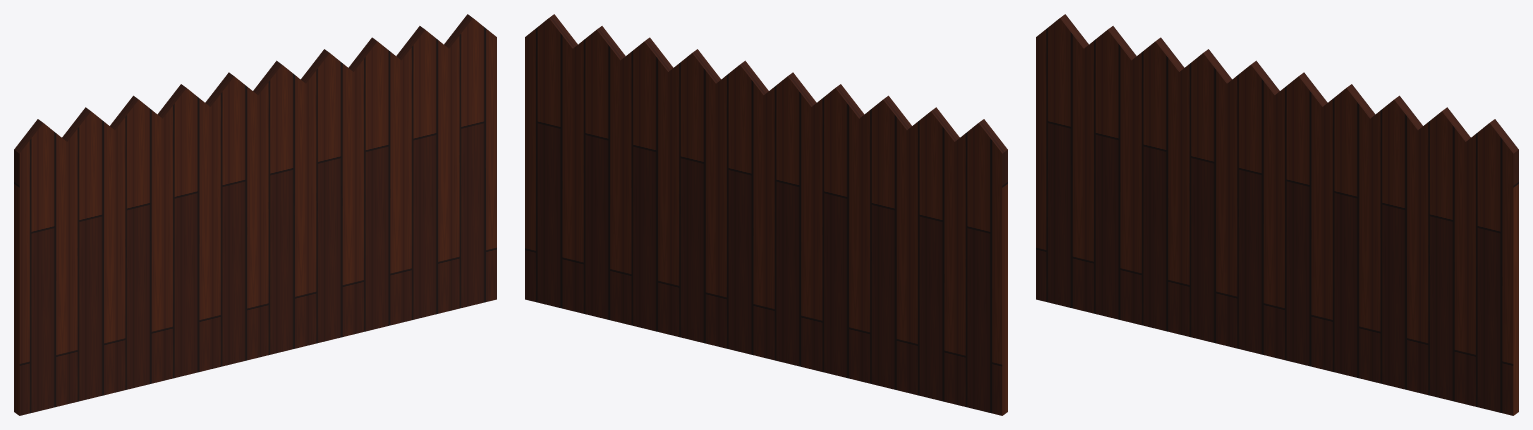
Rendered from fence.fbx.
3 views of the same model, side by side, from view 1: azimuth 30°, elevation 25°; view 2: azimuth 150°, elevation 25°; view 3: azimuth 330°, elevation 25° (orthographic).
Parts seen in each view (by area): view 1: Cube.002; view 2: Cube.002; view 3: Cube.002.
Boxes of the visible parts, x1,y1,x2,y2 form: Cube.002: (14, 14, 496, 415); Cube.002: (525, 14, 1007, 415); Cube.002: (1036, 14, 1518, 415).
Bounding box in the file's own units: 1000 × 575 × 20.
1 material, 1 textured.
